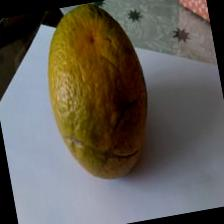Orange Rotten: (29, 0, 180, 193)
